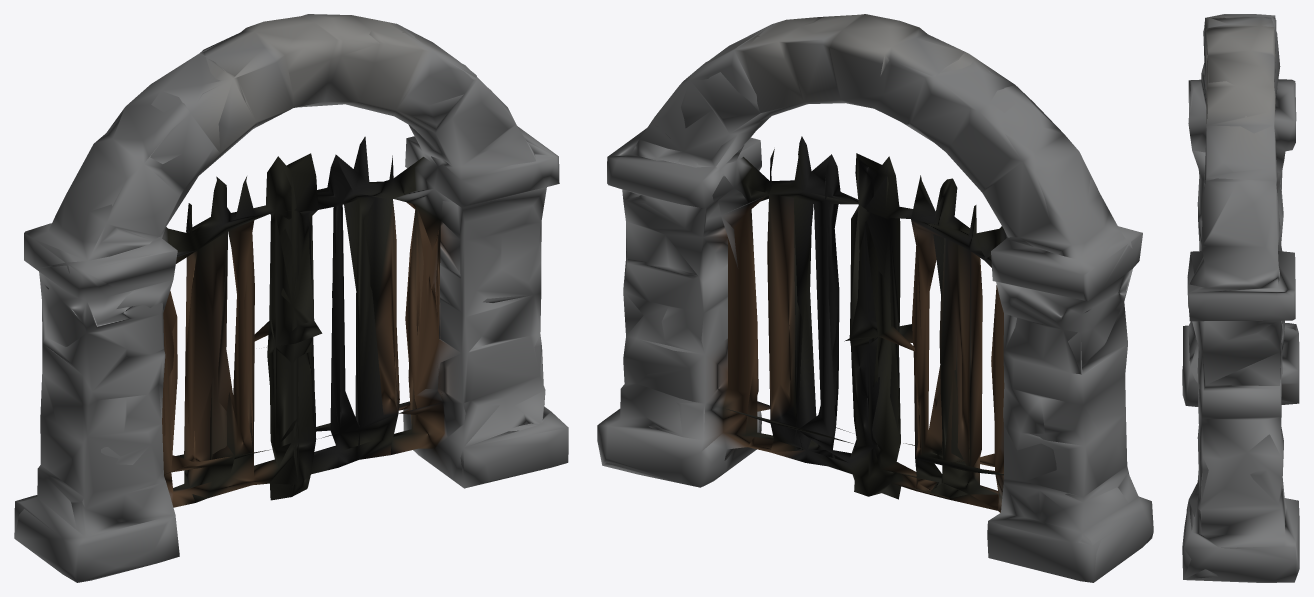
The model's file is gen3d-arena-gate-lod0.glb.
3 renders of one model, left to right at view 1: azimuth 30°, elevation 25°; view 2: azimuth 150°, elevation 25°; view 3: azimuth 270°, elevation 25°, orthographic. The views are drawn at different scales.
Visible parts, largest first — view 1: part_0; view 2: part_0; view 3: part_0.
Part boxes in pixels (x1,y1,x2,y2): part_0: (14, 14, 568, 582); part_0: (597, 14, 1153, 582); part_0: (1182, 14, 1299, 582).
Size of the model in its own units: 1.1 by 1 by 0.2435.
